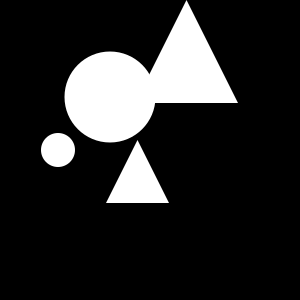rectangle: (64, 51, 156, 142), (41, 133, 75, 167)
triangle: (135, 0, 238, 103), (106, 140, 169, 203)
